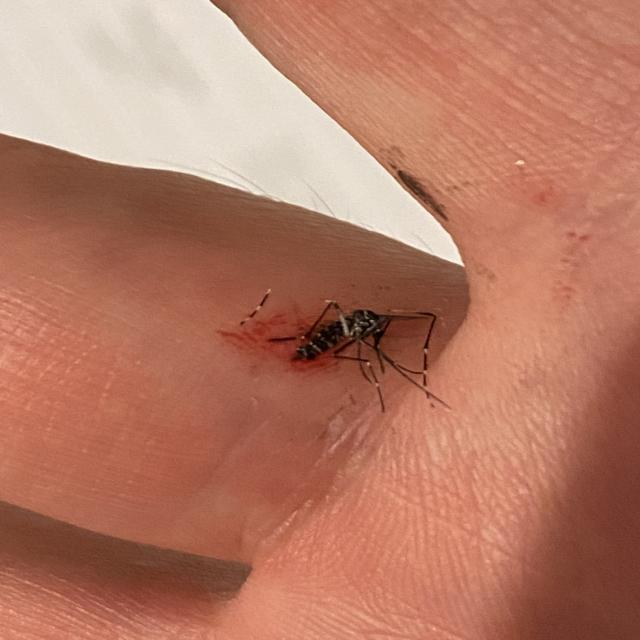albopictus: (235, 281, 452, 416)
